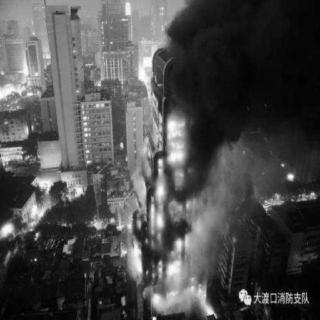Smoke: (166, 1, 314, 151)
other: (268, 182, 316, 214)
